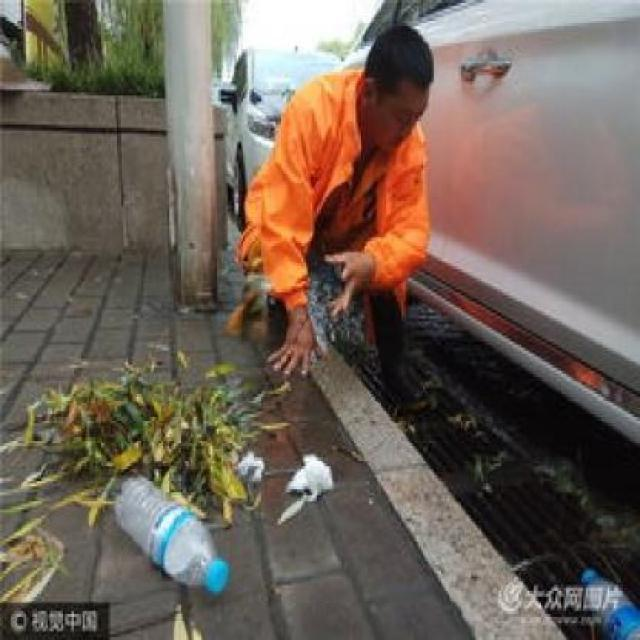garbage: (91, 328, 392, 600), (20, 377, 104, 518), (551, 528, 638, 638)
